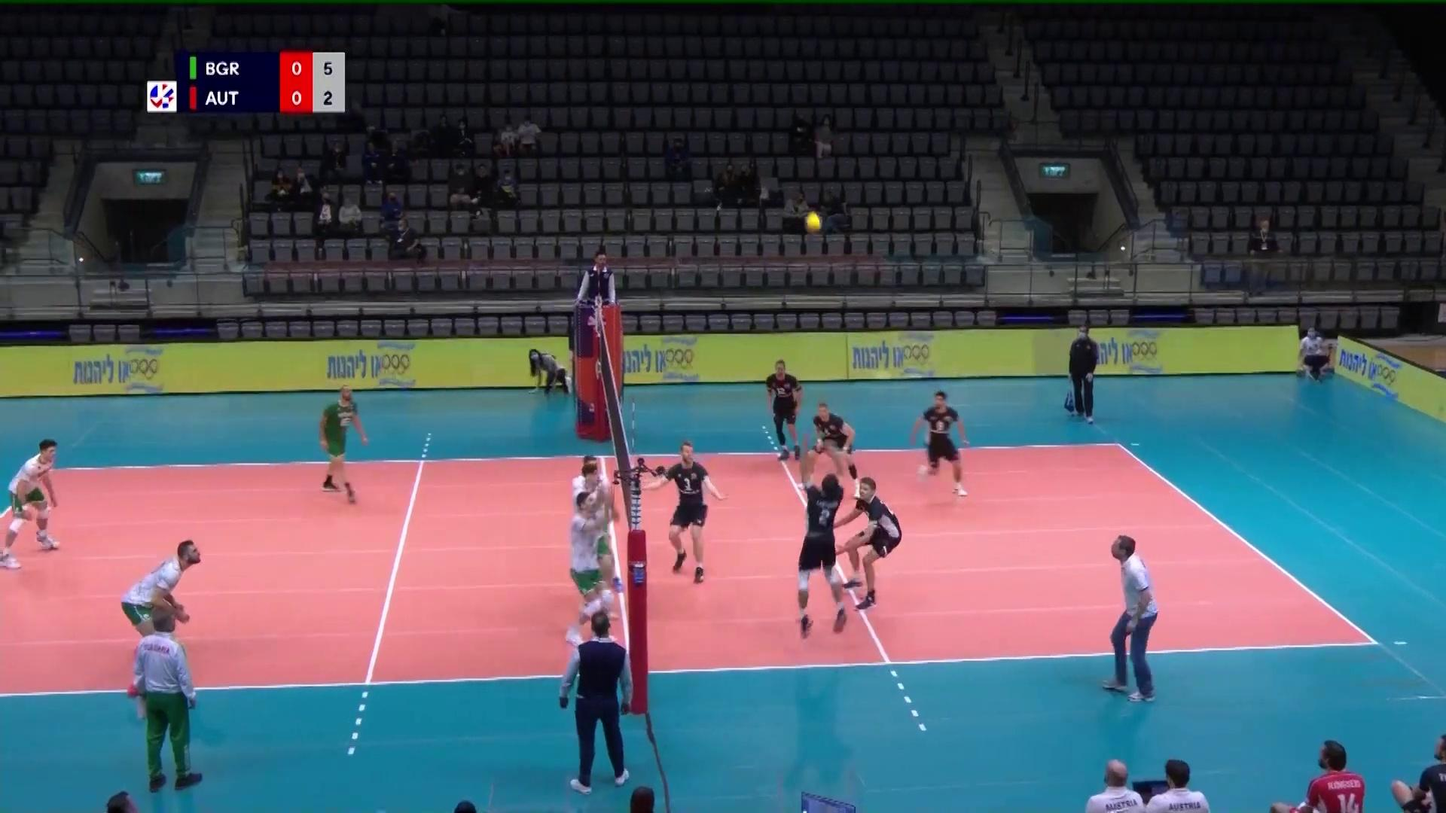ball: (805, 211, 822, 233)
